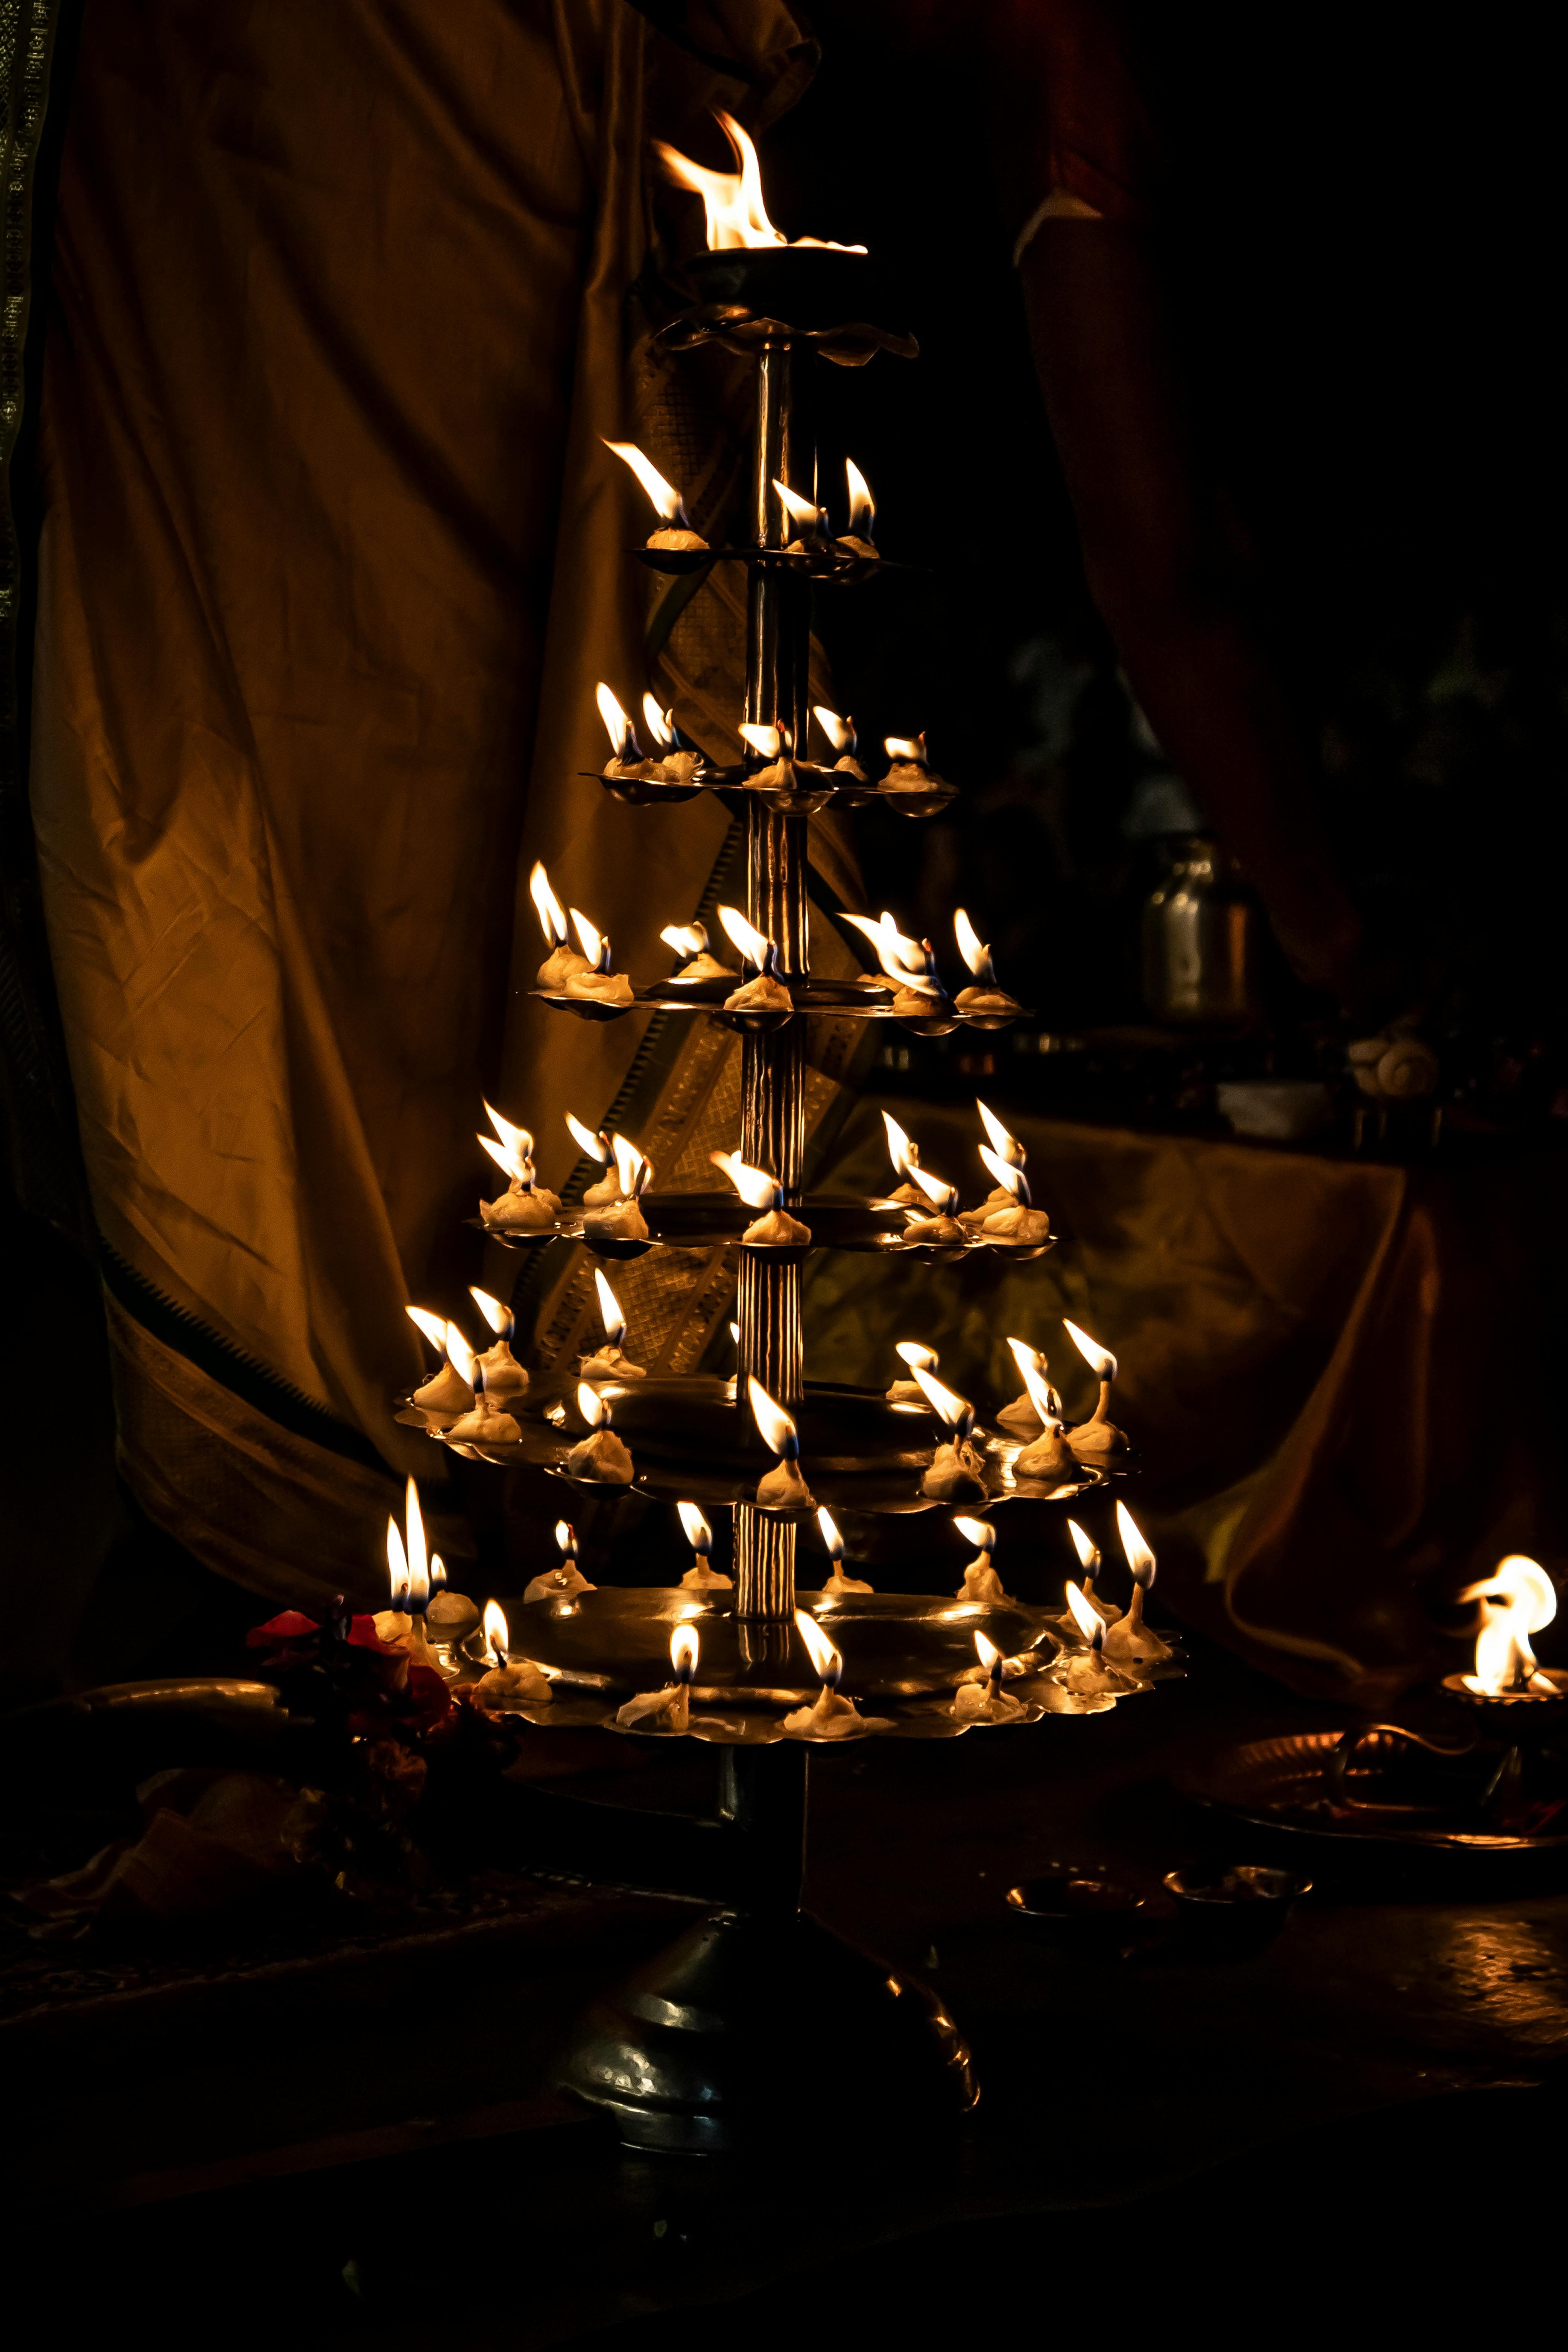Fire: (1444, 1531, 1568, 1717), (633, 94, 774, 257), (385, 1284, 539, 1409), (555, 1090, 668, 1204), (359, 1467, 445, 1617), (868, 1323, 973, 1440), (581, 424, 693, 529), (849, 1094, 948, 1211), (735, 1361, 819, 1484), (829, 894, 927, 994), (457, 1090, 542, 1186), (1101, 1482, 1178, 1587), (1003, 1316, 1060, 1449), (969, 1090, 1045, 1192), (940, 894, 1015, 991), (793, 1607, 865, 1699), (1060, 1316, 1139, 1400), (714, 1139, 789, 1221), (567, 891, 623, 999), (656, 1489, 740, 1558), (829, 441, 894, 527), (705, 894, 770, 975), (513, 852, 560, 961), (950, 1498, 1015, 1572), (649, 1617, 723, 1675), (578, 672, 627, 754), (793, 698, 856, 761), (532, 1508, 593, 1572), (581, 1260, 628, 1340), (758, 464, 816, 529), (731, 705, 786, 774), (469, 1596, 518, 1671), (642, 910, 702, 966), (803, 1501, 870, 1551), (1057, 1587, 1106, 1654), (637, 682, 681, 744), (959, 1636, 1012, 1687), (574, 1377, 614, 1440), (872, 728, 940, 765), (1060, 1519, 1099, 1572)
